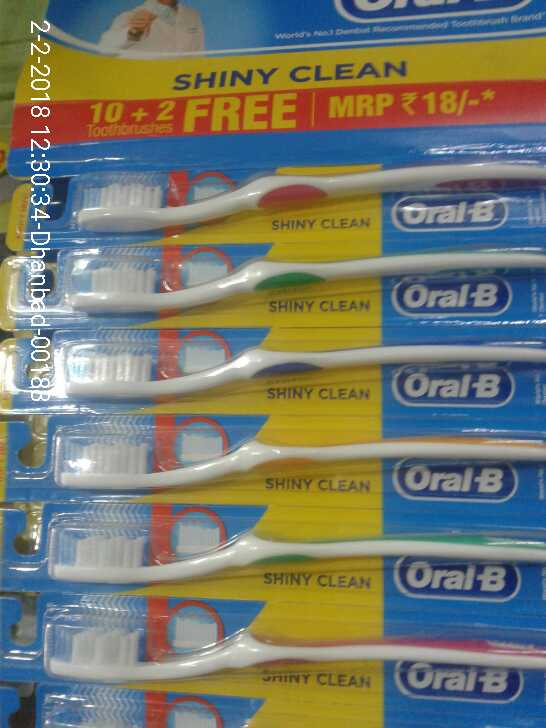oralb: (31, 497, 546, 587), (31, 606, 543, 686), (43, 248, 537, 330), (31, 423, 546, 501), (53, 330, 540, 408), (63, 165, 542, 231)
